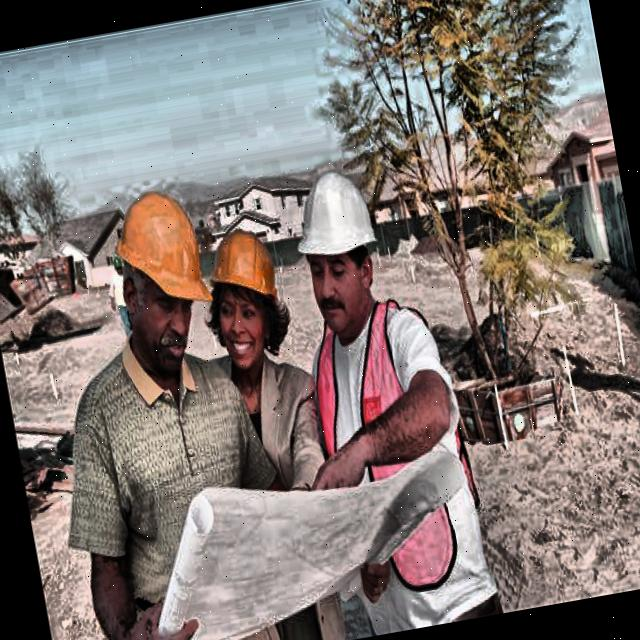helmet: (106, 172, 240, 380), (280, 158, 401, 340), (185, 203, 302, 383)
